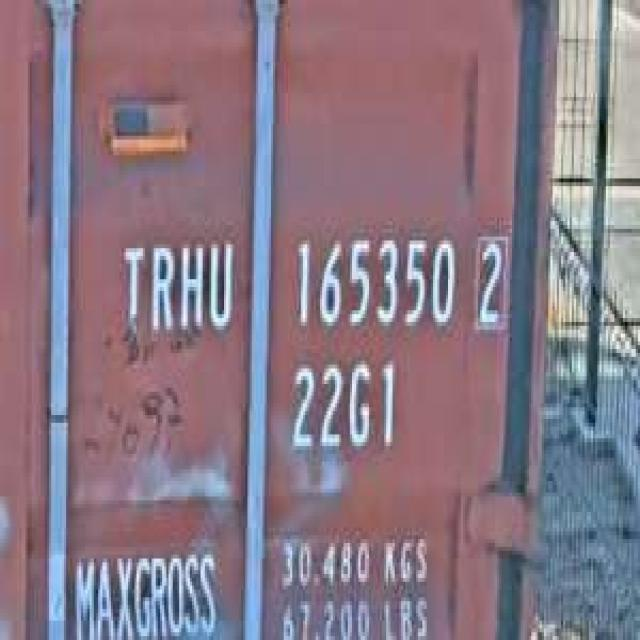dv: (469, 225, 510, 337)
owner: (113, 225, 237, 345)
serial: (286, 221, 459, 338)
size: (284, 349, 401, 462)
